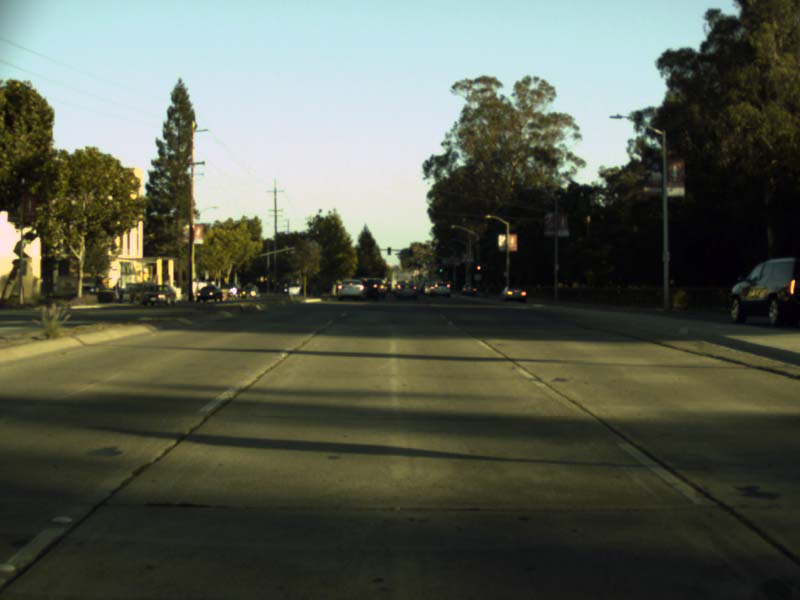Green: (438, 267, 443, 273)
Yellow: (476, 263, 481, 271)
